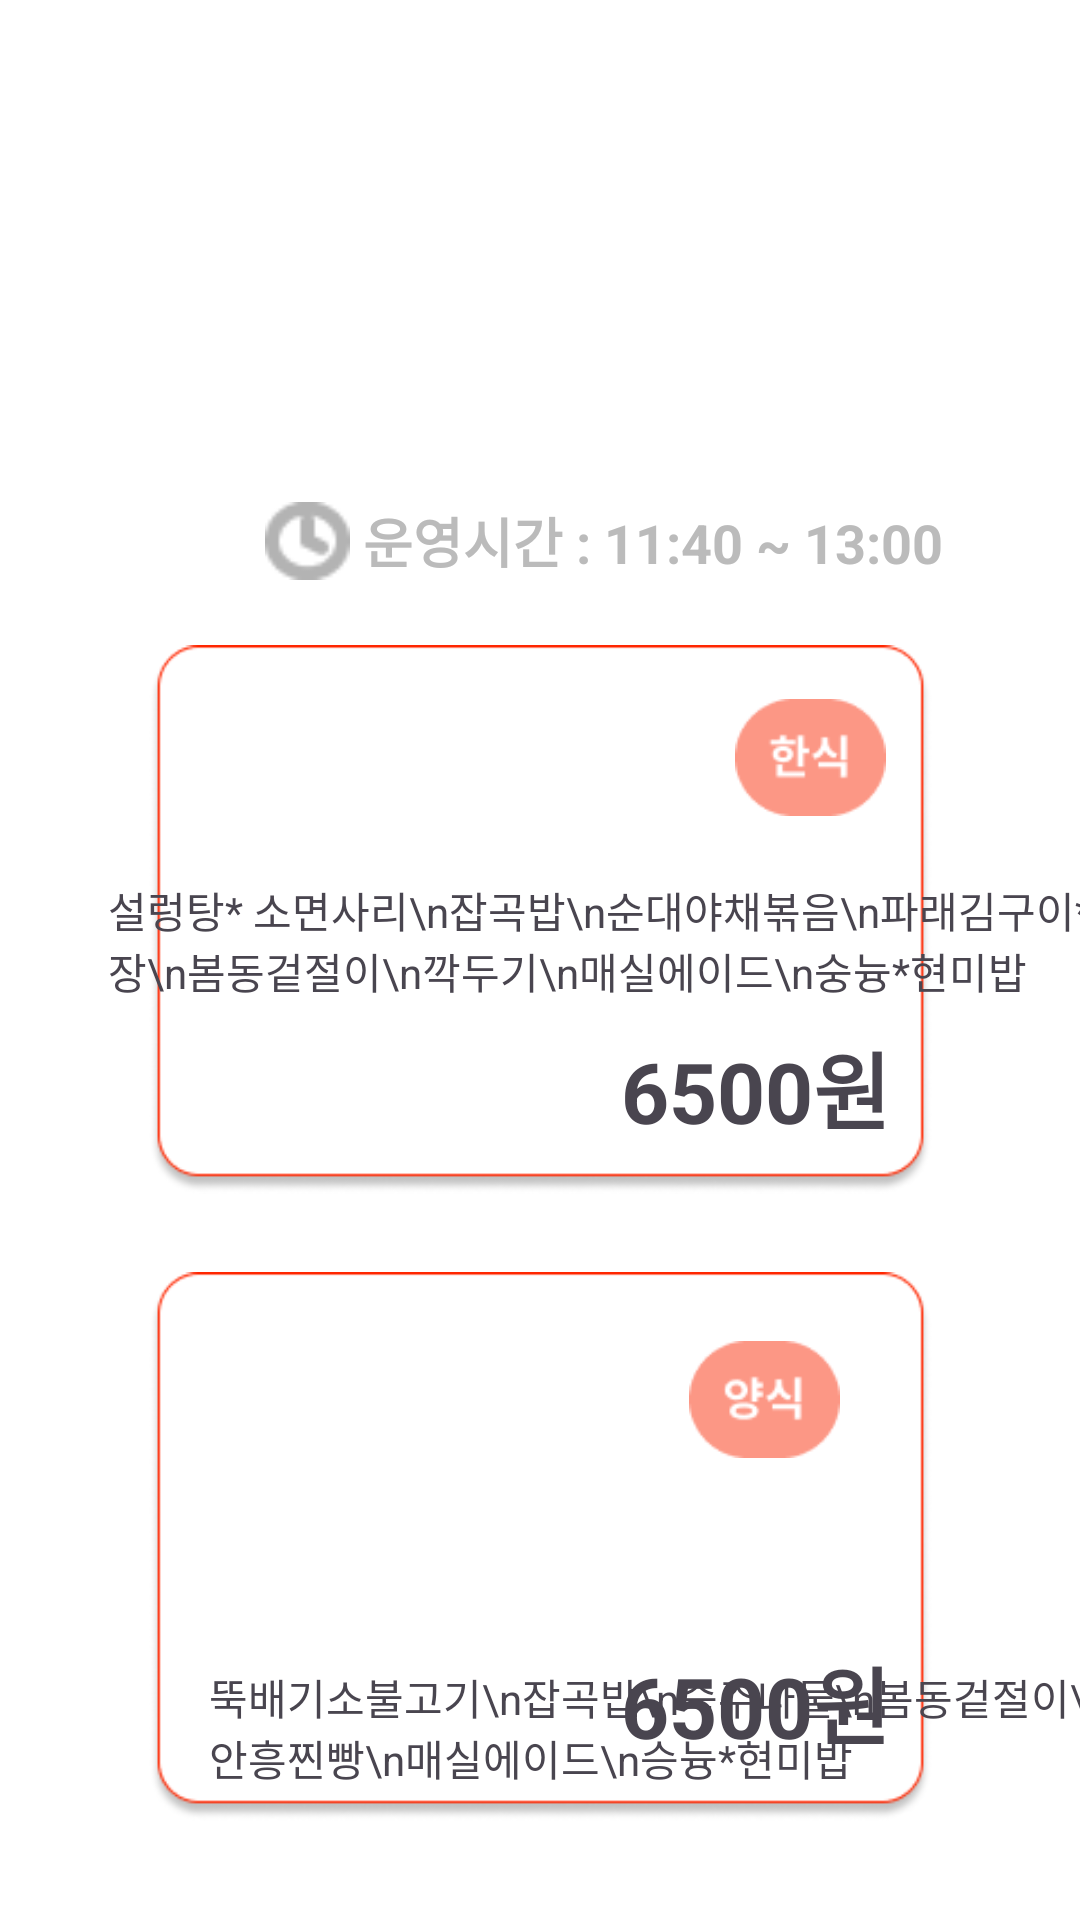

Icons on this 1080 × 1920 Android screen, each with its box as (x1, y1, x2, y2):
clockicon: (265, 502, 350, 580)
